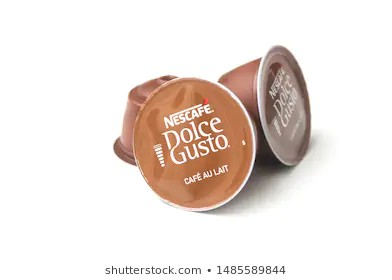nescafe-dolce: (126, 81, 261, 214), (222, 39, 316, 184)
